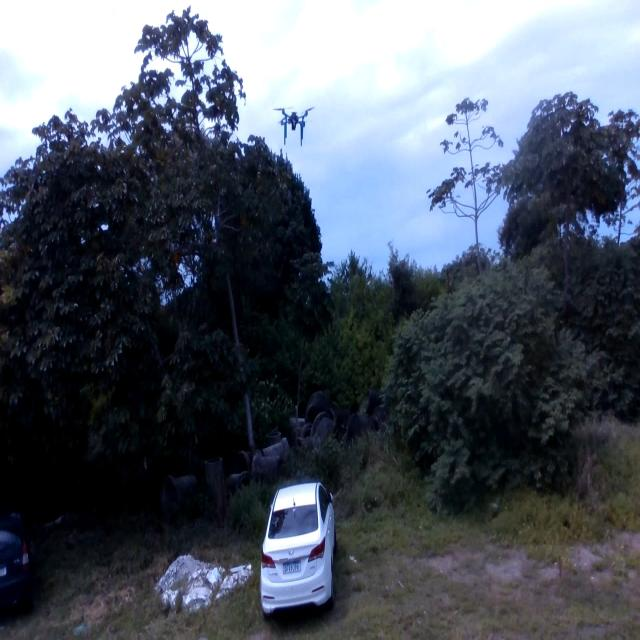-uav-: (269, 98, 327, 154)
